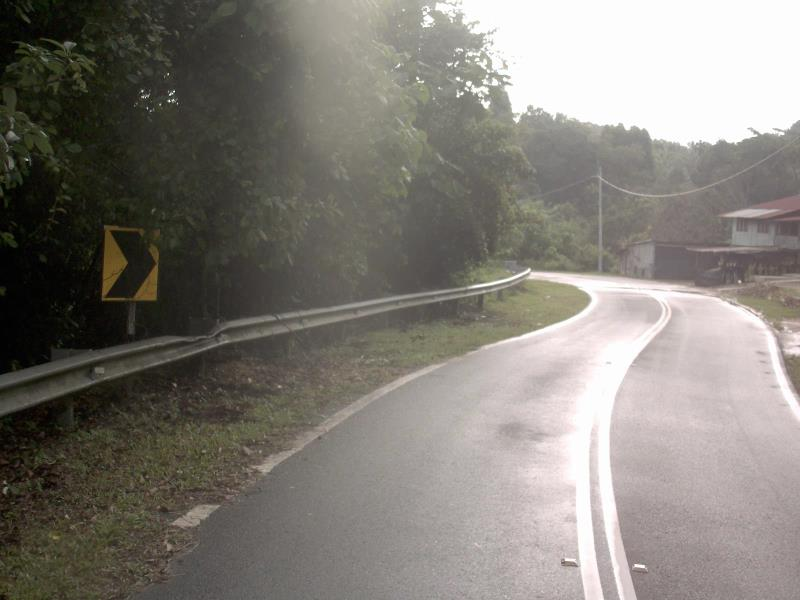traffic_sign: (90, 210, 170, 315)
